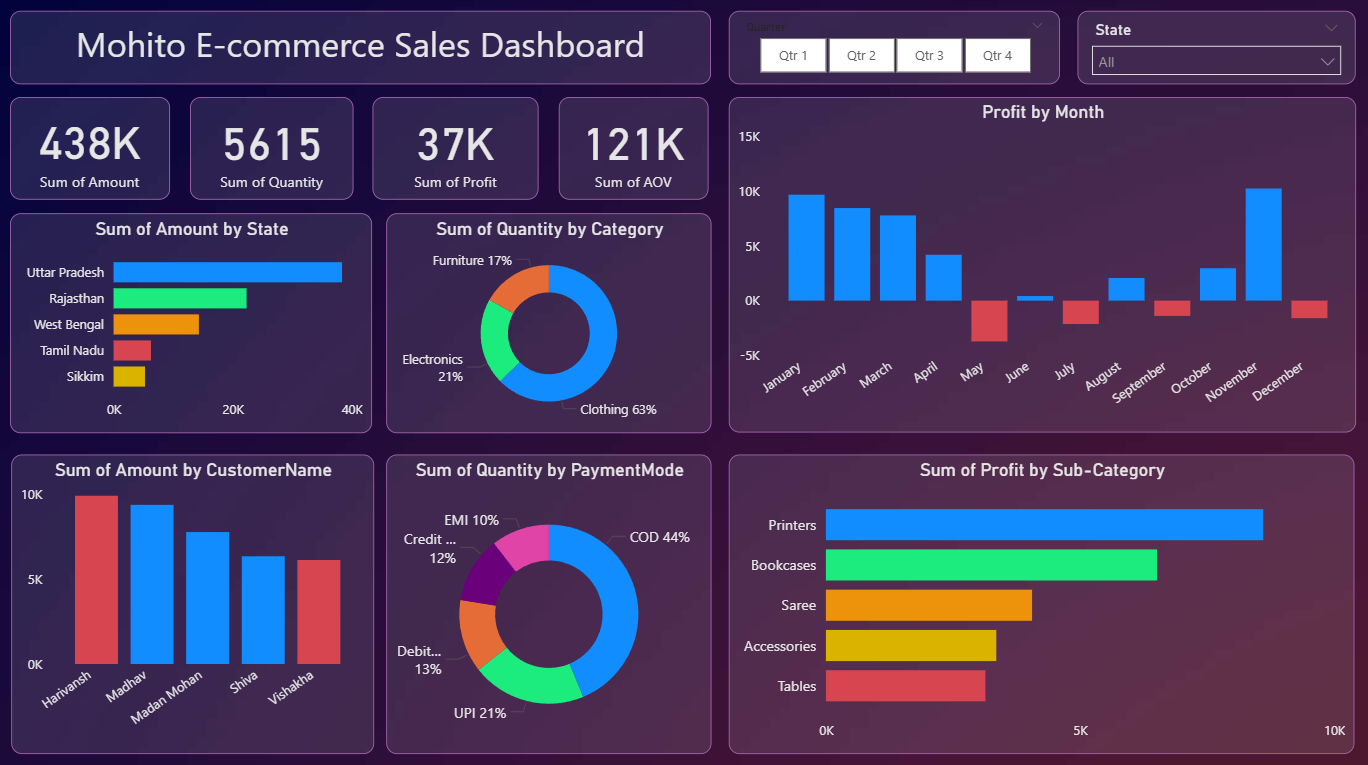

What the dashboard file says about the page in this screenshot:
{"tool":"powerbi","page":{"name":"Page 1","canvas":[1280,720],"ordinal":0},"visuals":[{"type":"textbox","title":"Rishabh E-commerce sales Dashboard","box":[9.6,12.4,655.4,68.8],"z":0},{"type":"columnChart","title":"Profit by Month","fields":{"Y":["Details.Profit"],"Category":["Orders.Order Date.Variation.Date Hierarchy.Month"]},"box":[680.9,93.6,586.4,313.6],"z":1000},{"type":"barChart","fields":{"Category":["Details.Sub-Category"],"Y":["Details.Profit"]},"box":[681.2,427.5,585,280],"z":2000},{"type":"donutChart","fields":{"Category":["Details.Category"],"Y":["Details.Quantity"]},"box":[360.6,201.5,304.4,205.7],"z":3000},{"type":"donutChart","fields":{"Y":["Details.Quantity"],"Category":["Details.PaymentMode"]},"box":[360.6,427.8,304.4,279.7],"z":4000},{"type":"card","fields":{"Values":["Details.Amount"]},"box":[9.6,93.2,149.4,96],"z":5000},{"type":"card","fields":{"Values":["Details.Quantity"]},"box":[177.3,93.6,152.7,96.4],"z":6000},{"type":"card","fields":{"Values":["Details.Profit"]},"box":[348.2,93.6,155.5,96.4],"z":7000},{"type":"card","fields":{"Values":["Details.AOV"]},"box":[521.8,93.6,140,96.4],"z":8000},{"type":"barChart","fields":{"Y":["Details.Amount"],"Category":["Orders.State"]},"box":[9.6,201.5,338.6,205.7],"z":9000},{"type":"columnChart","fields":{"Category":["Orders.CustomerName"],"Y":["Details.Amount"]},"box":[10,428,339,280],"z":10000},{"type":"slicer","fields":{"Values":["Orders.Order Date.Variation.Date Hierarchy.Quarter"]},"box":[681.6,12.4,309.8,68.8],"z":11000},{"type":"slicer","fields":{"Values":["Orders.State"]},"box":[1006.5,12.4,260.2,68.8],"z":12000}]}

Visuals, with their boxes in screenshot pixels (x1, y1, x2, y2), scaled from the page's 1280x720 canvas onto the 1368x765 screenshot:
"Rishabh E-commerce sales Dashboard" textbox: [left=10, top=13, right=711, bottom=86]
"Profit by Month" columnChart: [left=728, top=99, right=1354, bottom=433]
barChart - Details.Sub-Category x Details.Profit: [left=728, top=454, right=1353, bottom=752]
donutChart - Details.Category x Details.Quantity: [left=385, top=214, right=711, bottom=433]
donutChart - Details.Quantity x Details.PaymentMode: [left=385, top=455, right=711, bottom=752]
card - Details.Amount: [left=10, top=99, right=170, bottom=201]
card - Details.Quantity: [left=189, top=99, right=353, bottom=202]
card - Details.Profit: [left=372, top=99, right=538, bottom=202]
card - Details.AOV: [left=558, top=99, right=707, bottom=202]
barChart - Details.Amount x Orders.State: [left=10, top=214, right=372, bottom=433]
columnChart - Orders.CustomerName x Details.Amount: [left=11, top=455, right=373, bottom=752]
slicer - Orders.Order Date.Variation.Date Hierarchy.Quarter: [left=728, top=13, right=1060, bottom=86]
slicer - Orders.State: [left=1076, top=13, right=1354, bottom=86]
